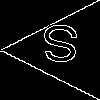S: (41, 25, 80, 71)
